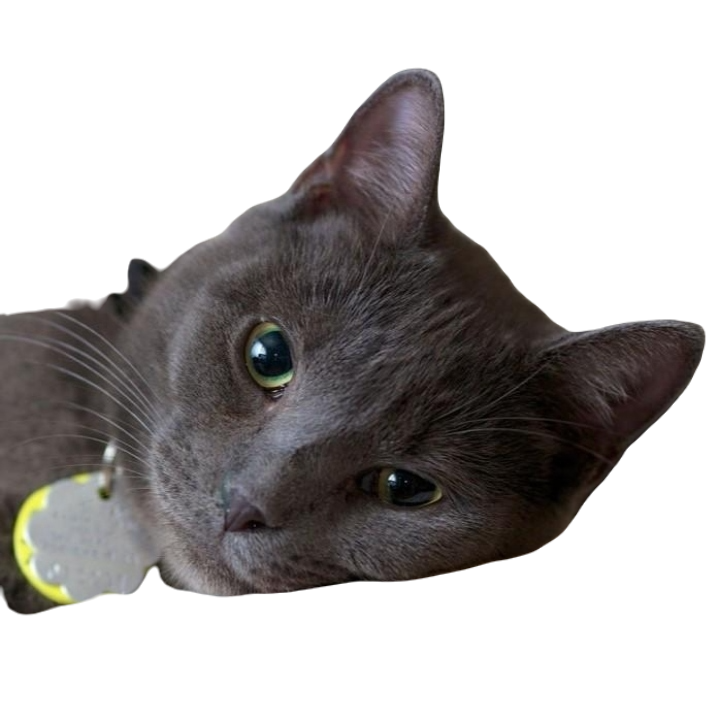Cat: (7, 53, 716, 668)
